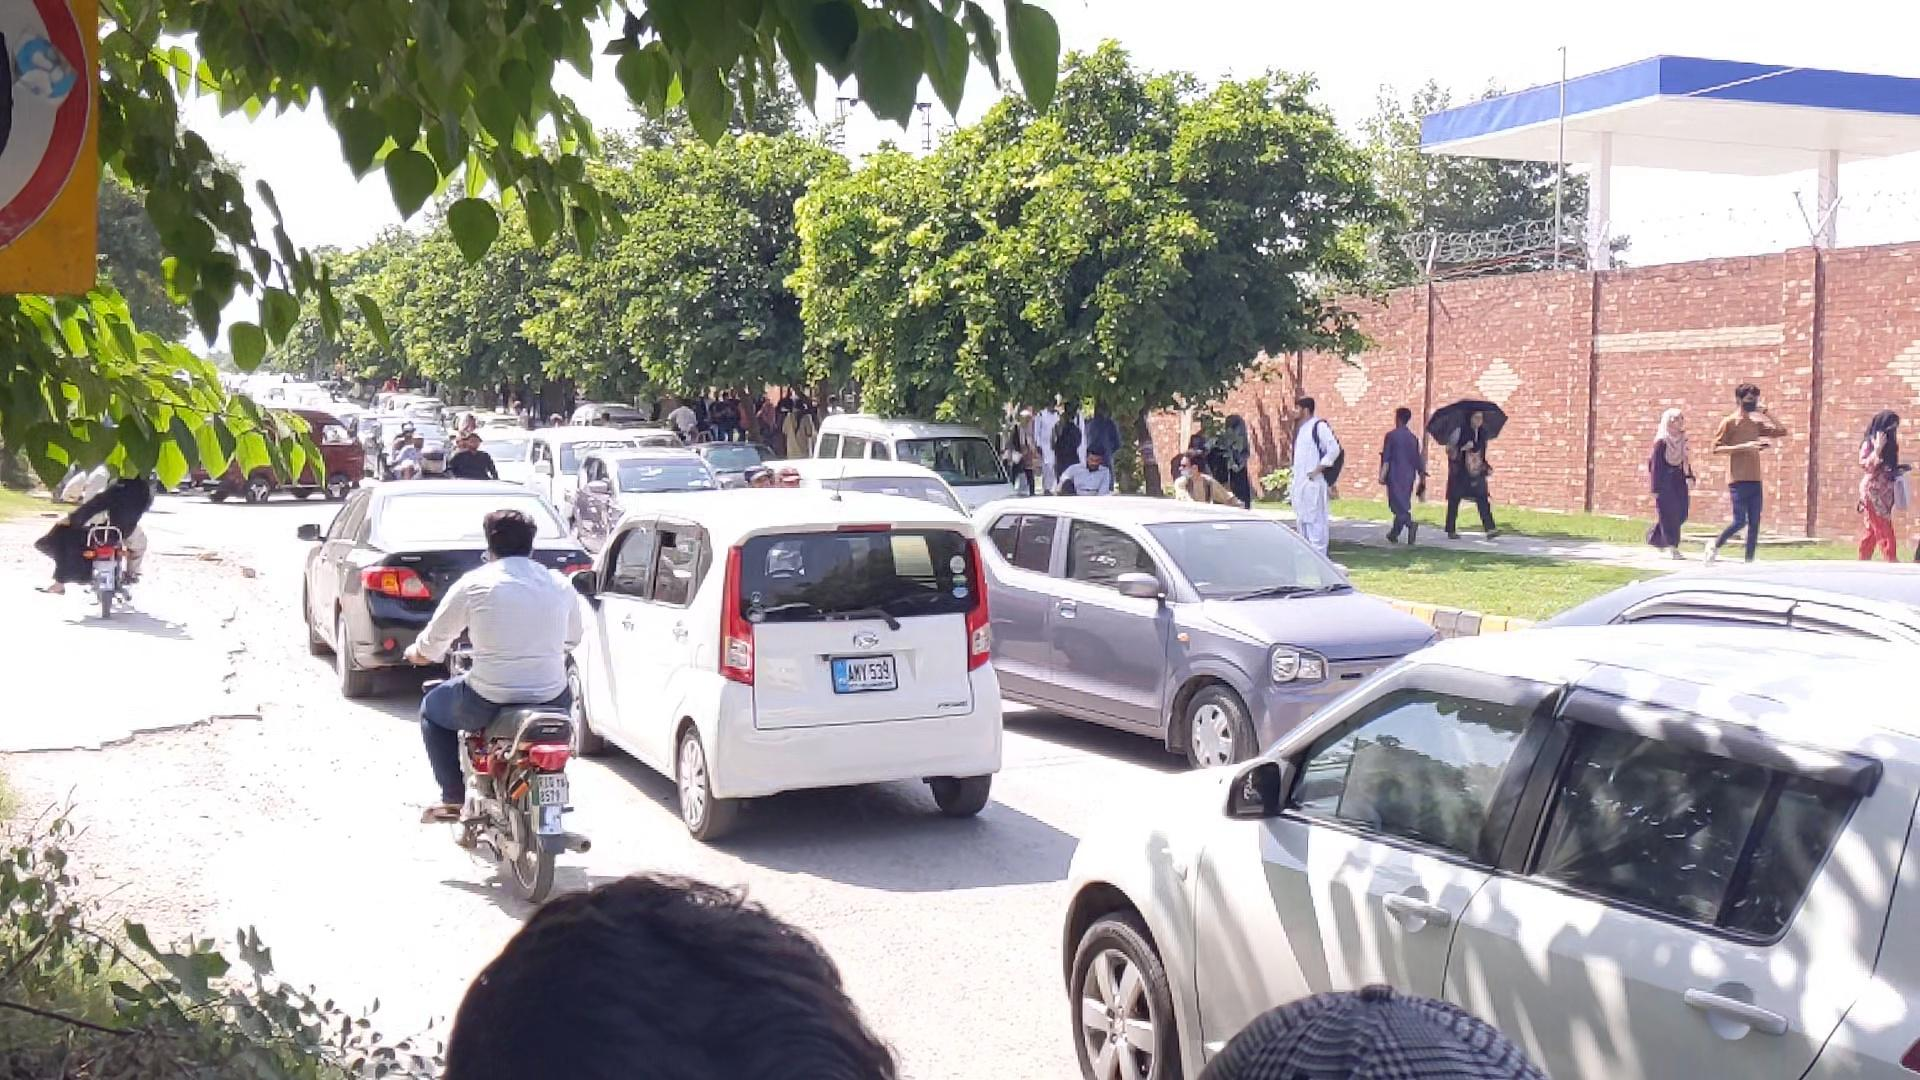windshield: (1154, 517, 1357, 607)
